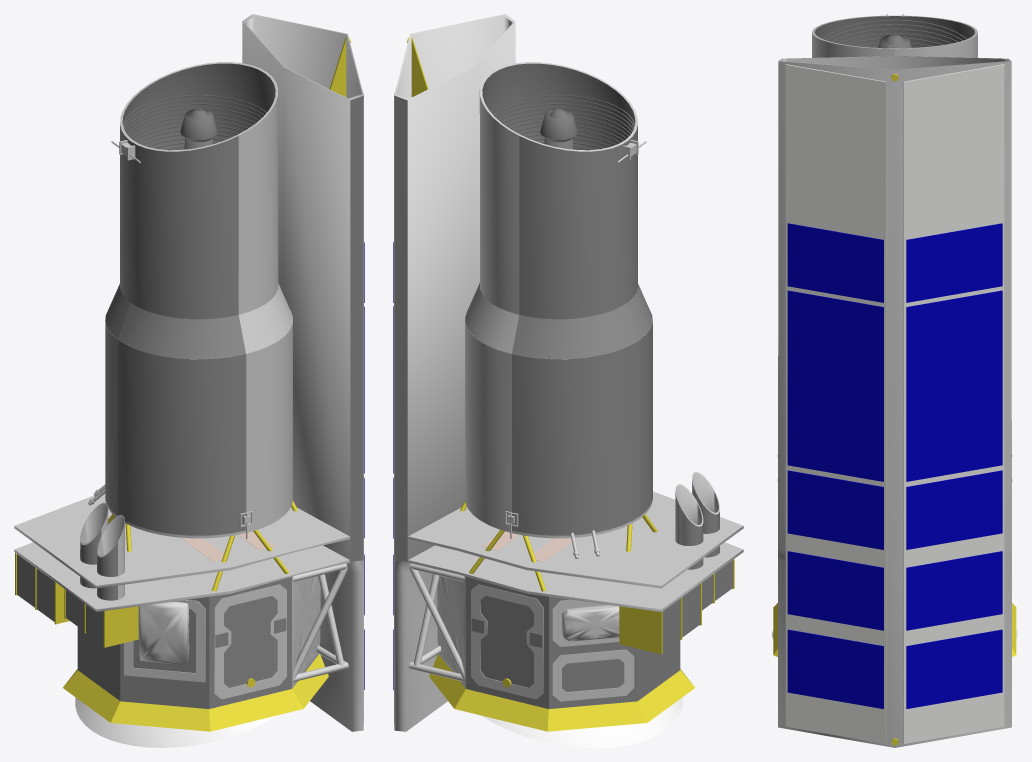
Rendered from Spitzer Space Telescope.glb.
3 renders of one model, left to right at view 1: azimuth 30°, elevation 25°; view 2: azimuth 150°, elevation 25°; view 3: azimuth 270°, elevation 25°, orthographic. The views are drawn at different scales.
Visible parts, largest first — view 1: Spitzer_Space_Telescope, insidetele, cube26, cube30, cube29, cylinder34, cylinder05, cube02, cylinder36; view 2: Spitzer_Space_Telescope, insidetele, cube27, cube26, cylinder31, cube29, cylinder05, cube01, cylinder37; view 3: Spitzer_Space_Telescope, cube01, cube02, cube07, cube12, cube06, cube11, cube03, cube04, cube08, cube10, cube09 (+2 smaller).
Boxes of the visible parts, x1,y1,x2,y2 form: Spitzer_Space_Telescope: (14, 14, 363, 747); insidetele: (122, 63, 275, 150); cube26: (17, 554, 54, 621); cube30: (103, 606, 138, 647); cube29: (66, 590, 103, 645); cylinder34: (293, 567, 347, 679); cylinder05: (180, 109, 217, 139); cube02: (361, 85, 363, 724); cylinder36: (318, 574, 343, 665); Spitzer_Space_Telescope: (394, 14, 743, 747); insidetele: (482, 63, 635, 150); cube27: (619, 606, 662, 654); cube26: (662, 584, 700, 651); cylinder31: (409, 563, 464, 679); cube29: (702, 560, 732, 610); cylinder05: (540, 109, 577, 139); cube01: (394, 86, 396, 724); cylinder37: (414, 574, 439, 666); Spitzer_Space_Telescope: (772, 15, 1017, 747); cube01: (903, 64, 1004, 743); cube02: (785, 64, 886, 743); cube07: (906, 290, 1002, 481); cube12: (787, 290, 883, 481); cube06: (906, 551, 1002, 630); cube11: (787, 551, 883, 630); cube03: (906, 223, 1002, 302); cube04: (906, 470, 1002, 549); cube08: (787, 223, 883, 302); cube10: (787, 629, 883, 708); cube09: (787, 470, 883, 549).
Size of the model in its own units: 5.43 by 11.87 by 3.75.
